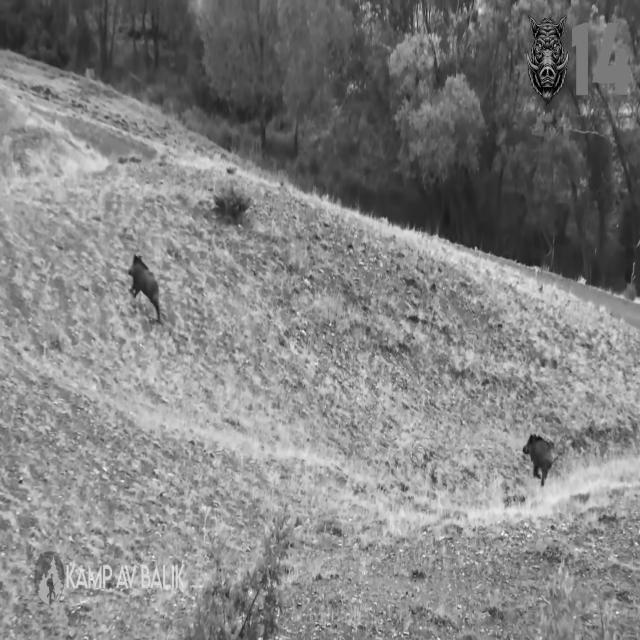boar: (128, 255, 161, 322), (522, 434, 556, 485)
